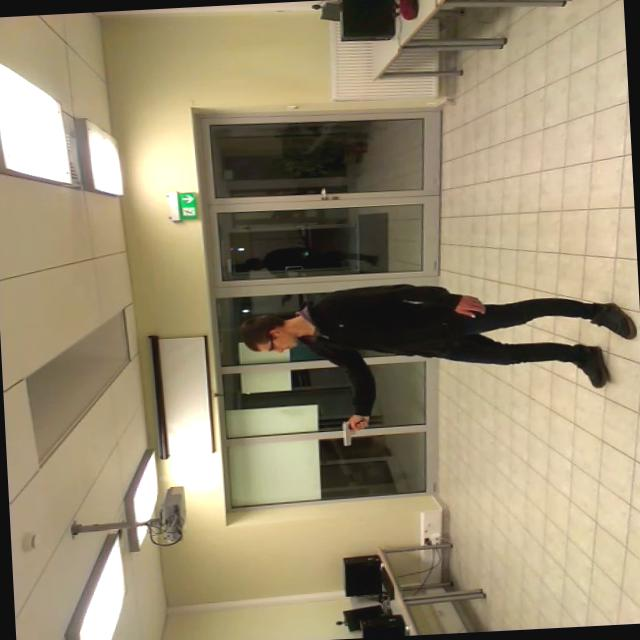handgun: (331, 408, 378, 459)
